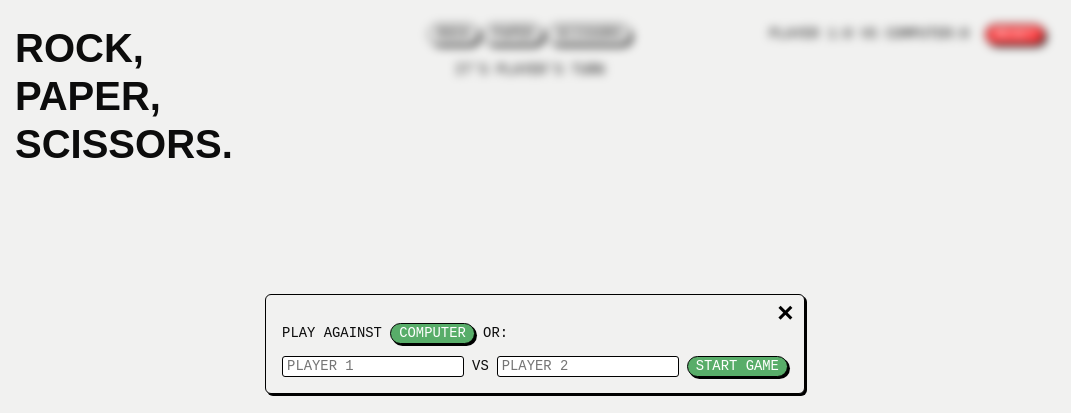
Test: Game tests › Game scenario player vs player result in tie
Type "Hej" into the field with placeholder "PLAYER 1" at (373, 367), box left=282, top=356, right=464, bottom=377
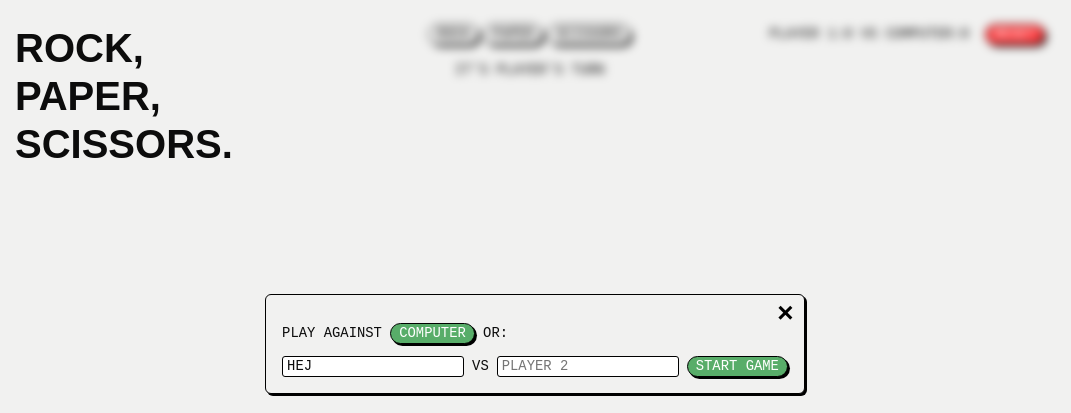
Type "Hej2" into the field with placeholder "PLAYER 2" at (588, 367), box left=497, top=356, right=679, bottom=377
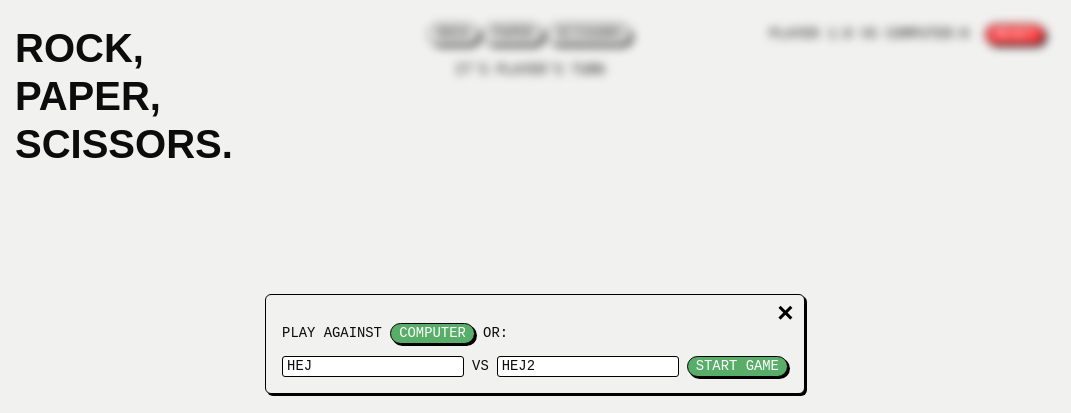
Click the button with test id "startBtn" at (738, 367), box left=687, top=356, right=788, bottom=377
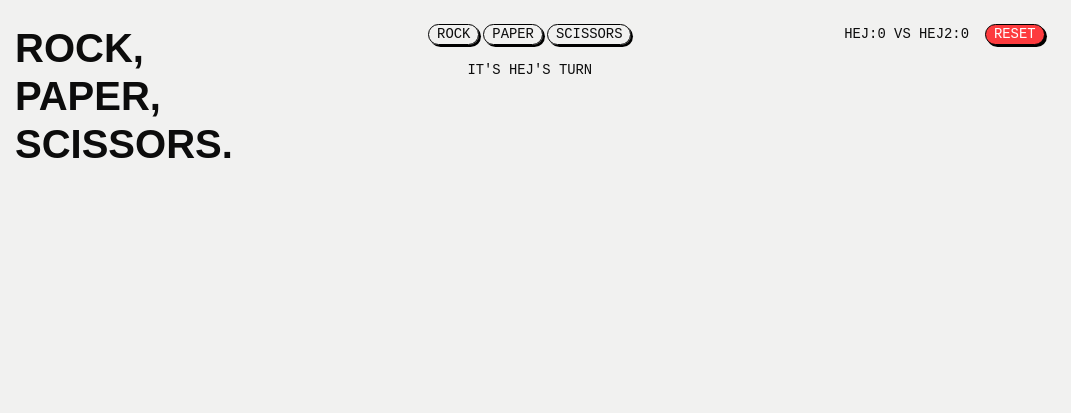
Click the button with test id "rockBtn" at (454, 35), box left=428, top=24, right=479, bottom=45
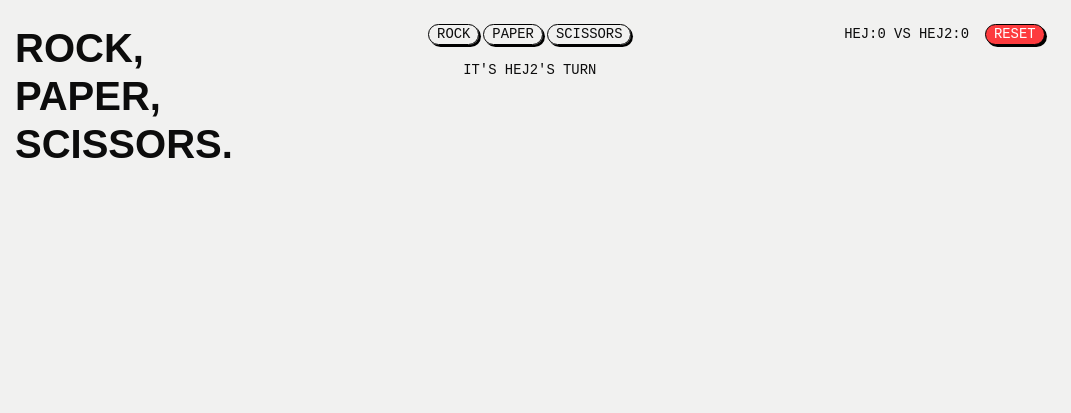
Click the button with test id "rockBtn" at (454, 35), box left=428, top=24, right=479, bottom=45
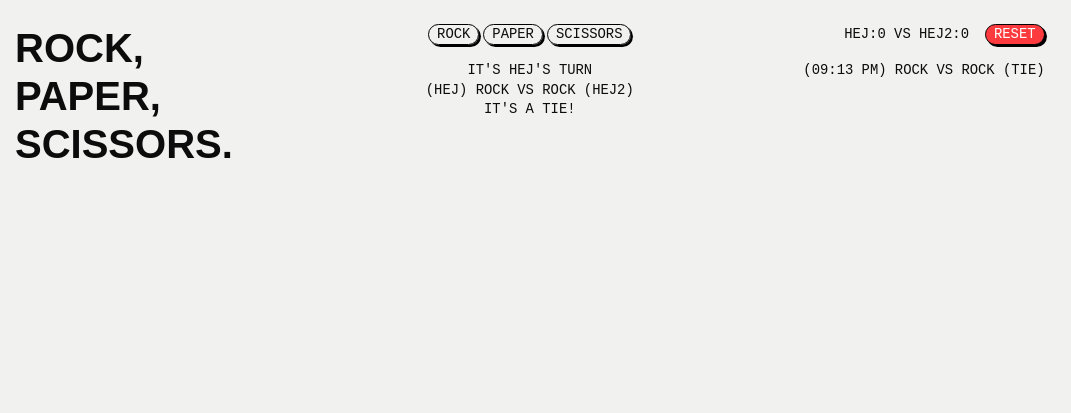
Expected: the element with test id "resultCy" shows "It's a tie!", left=426, top=62, right=634, bottom=117
